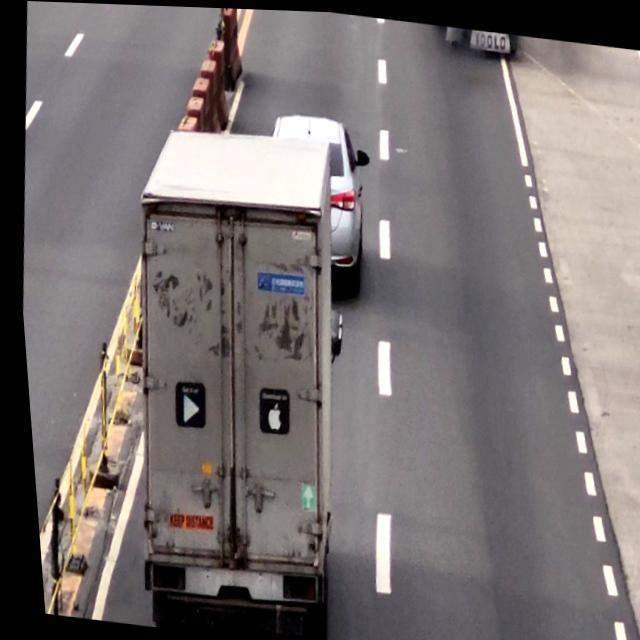Truck: (101, 121, 357, 639)
